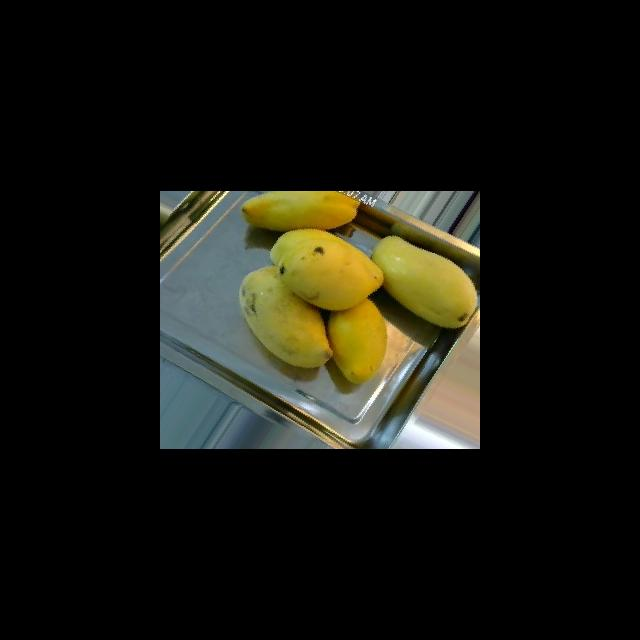mango: (371, 234, 478, 329), (238, 265, 332, 369), (269, 228, 384, 311), (327, 298, 387, 384), (240, 191, 360, 231)
